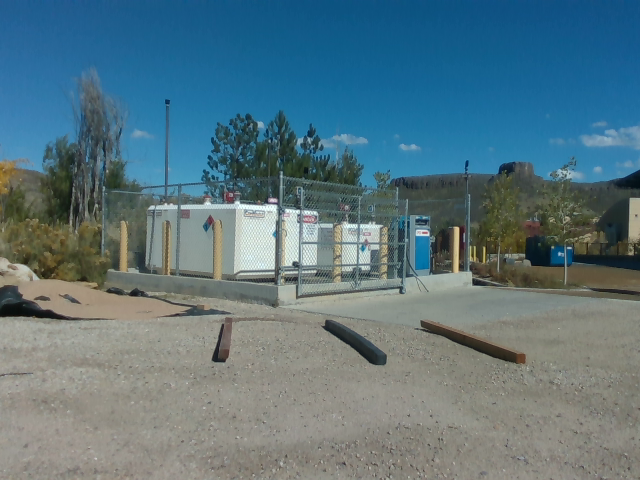dunnage: (213, 309, 533, 372)
